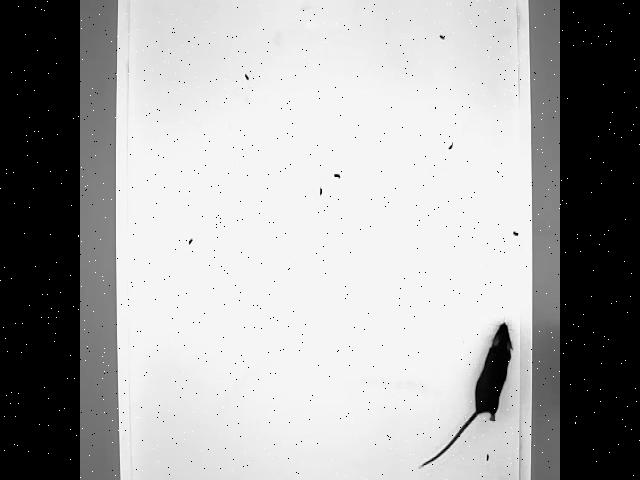Tikus: (415, 313, 517, 471)
